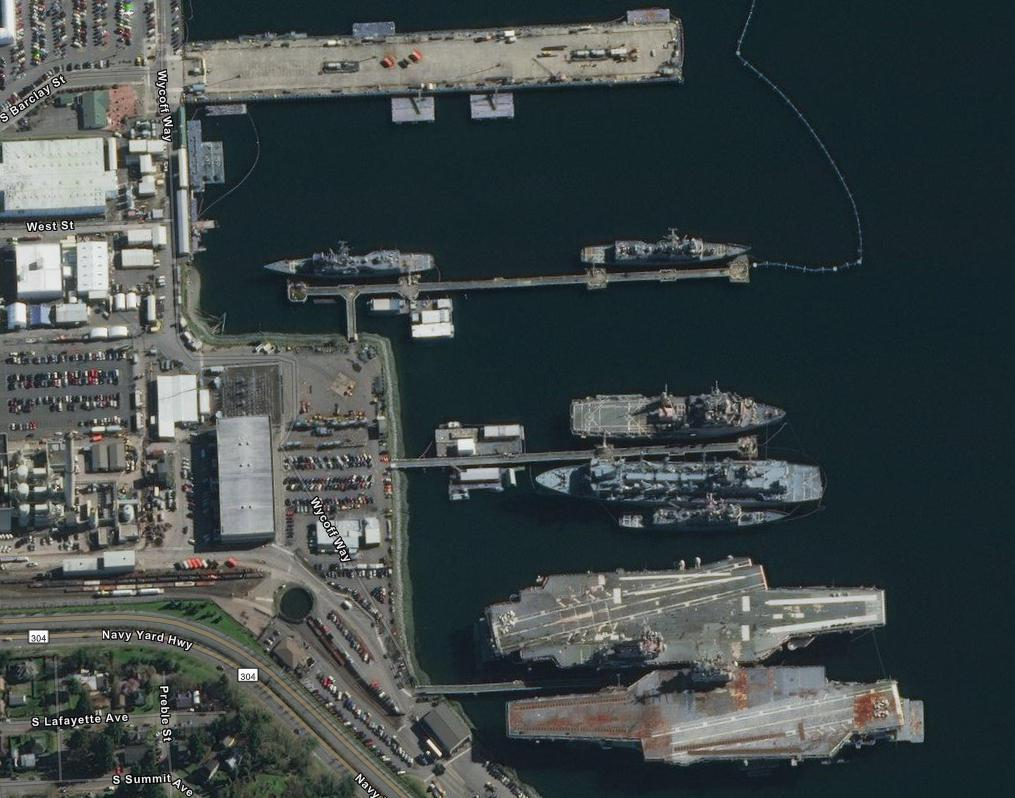carrier: (476, 559, 898, 678), (497, 657, 935, 770)
